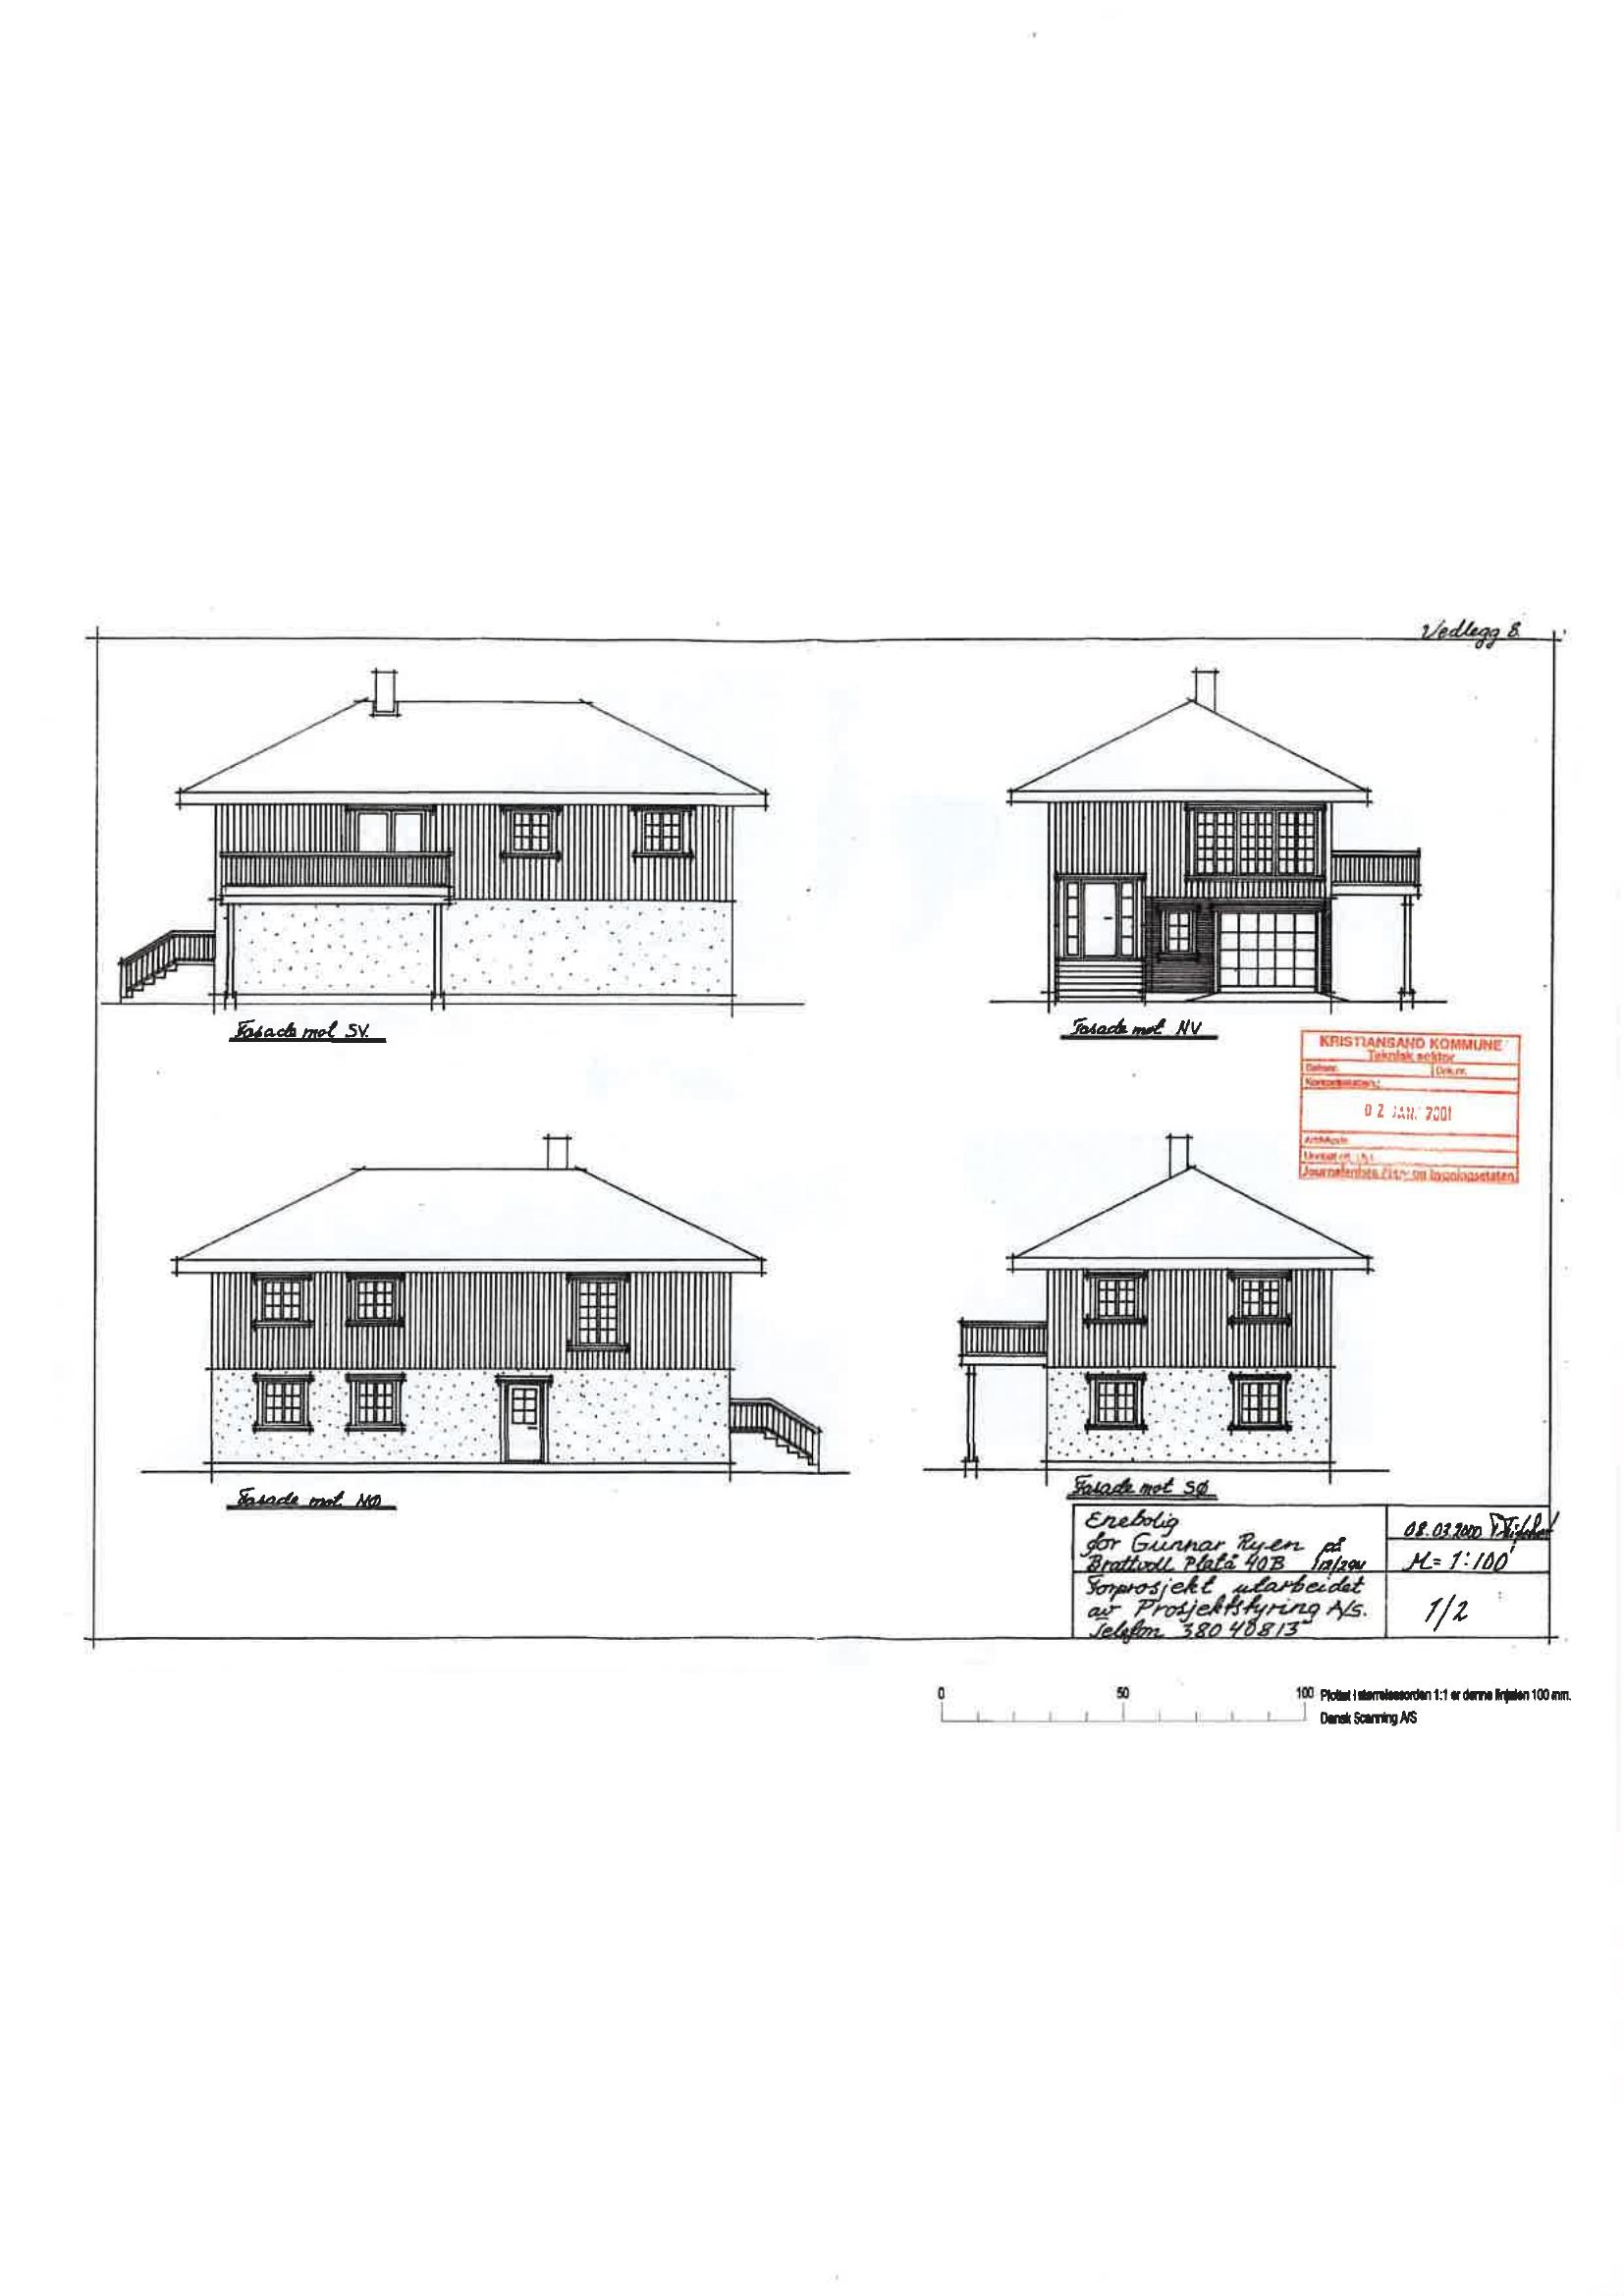fasade: (179, 1137, 838, 1483), (163, 651, 779, 1011), (947, 1124, 1370, 1483), (998, 659, 1427, 1005)
